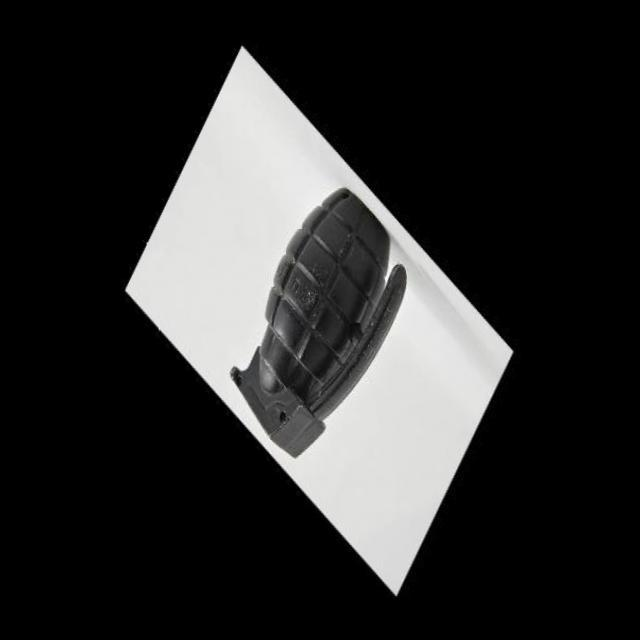grenade: (208, 168, 437, 468)
